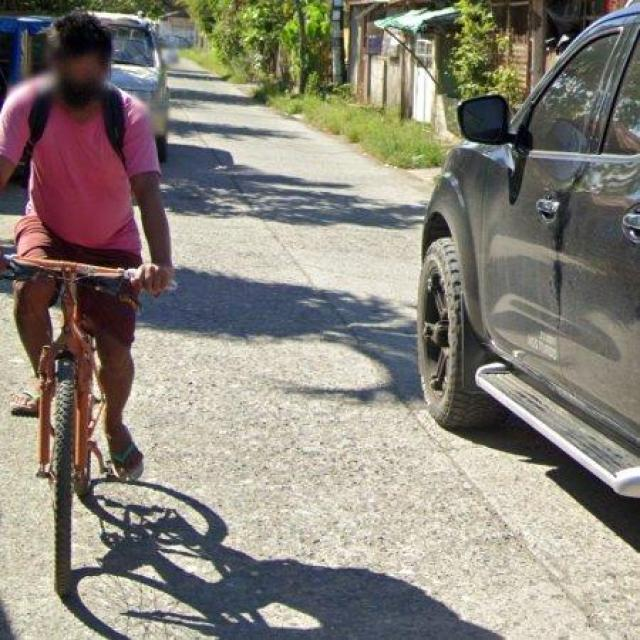bicycle: (6, 257, 132, 600)
